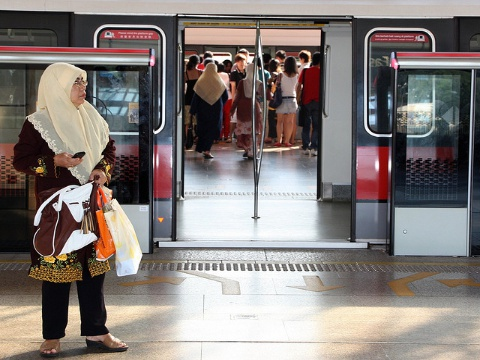hand: (54, 153, 85, 171), (89, 169, 107, 186)
